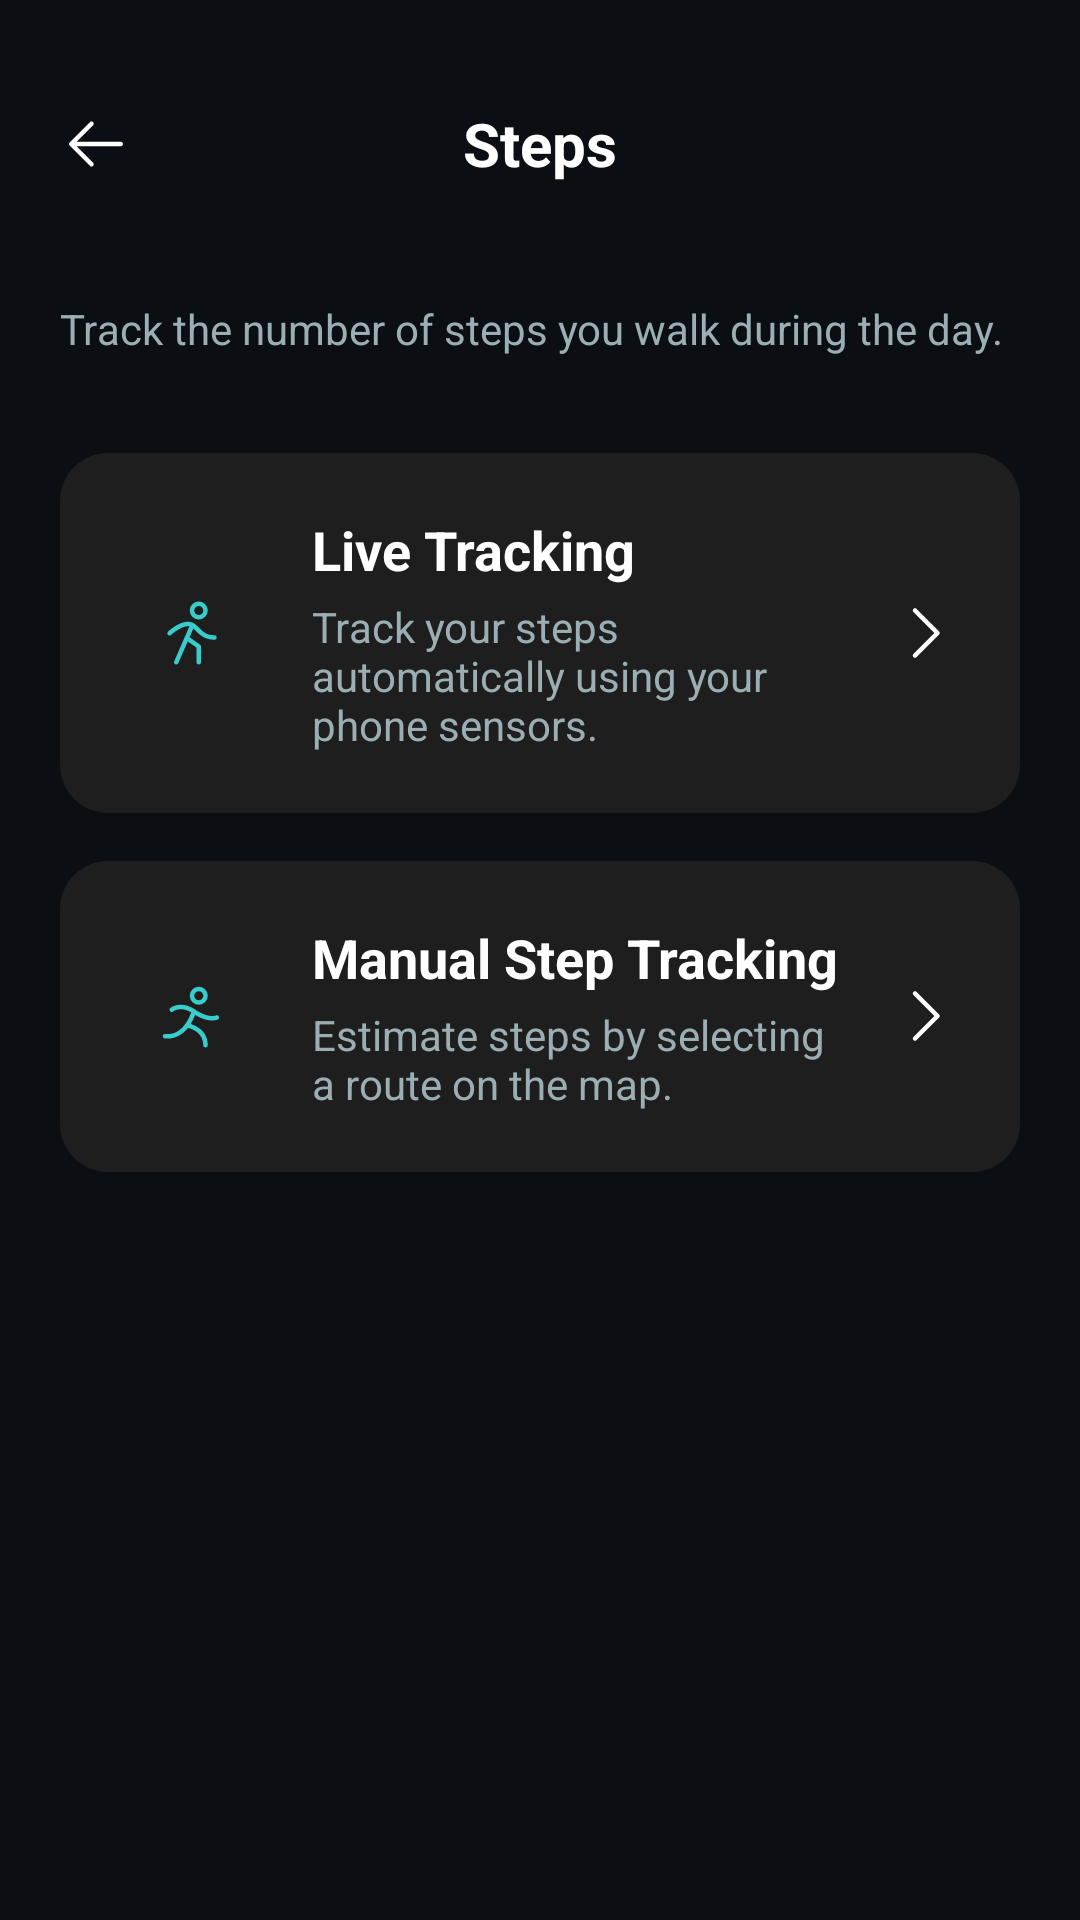

Point at icon controls on the screen. Image size 1080×1920, points as point (x, y).
Back: point (96, 144)
chevron right: point (926, 633), point (926, 1016)
running: point (191, 1017)
walking: point (192, 633)
